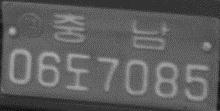0: (8, 47, 32, 86), (124, 59, 149, 95)
5: (183, 64, 209, 102)
6: (36, 51, 61, 89)
7: (96, 56, 119, 93)
8: (154, 61, 179, 99)
도: (63, 53, 91, 92)
영: (16, 11, 45, 40)
충남_D: (51, 11, 169, 50)
